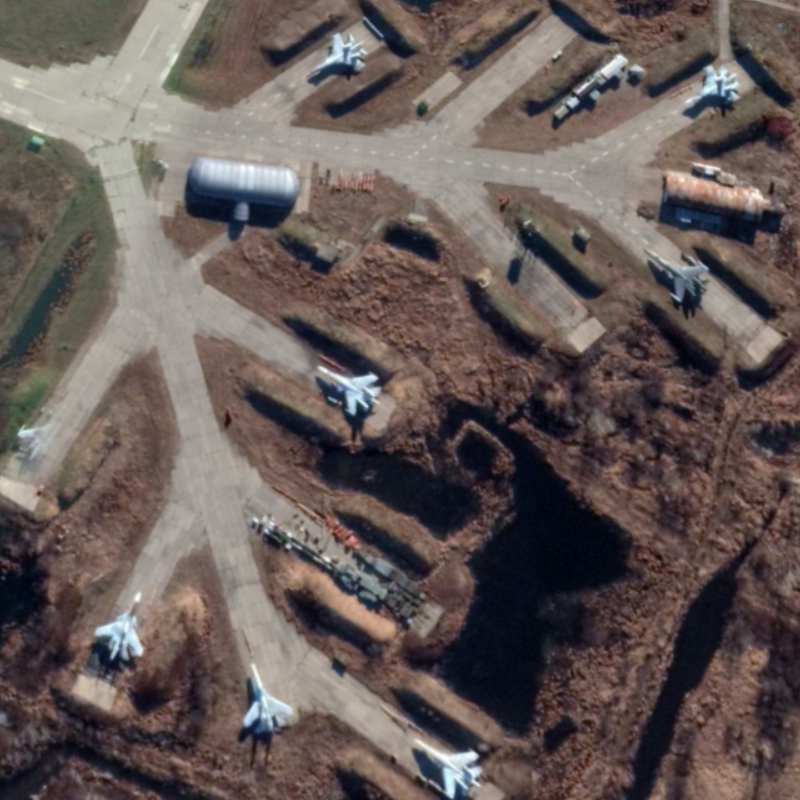A1: (408, 736, 484, 800), (240, 659, 296, 737), (640, 244, 712, 304), (315, 362, 382, 416), (303, 31, 369, 84), (680, 63, 744, 112)
A19: (93, 589, 146, 663)
